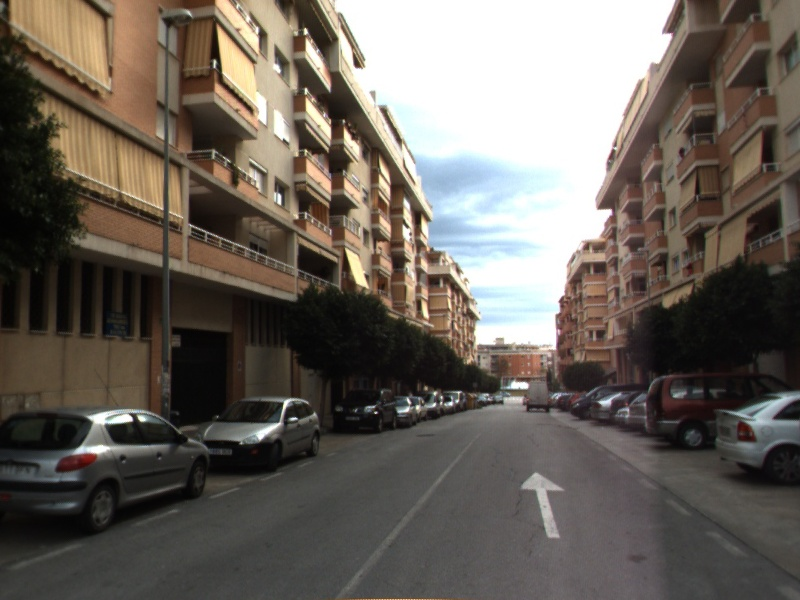STRAIGHT: (517, 470, 567, 540)
